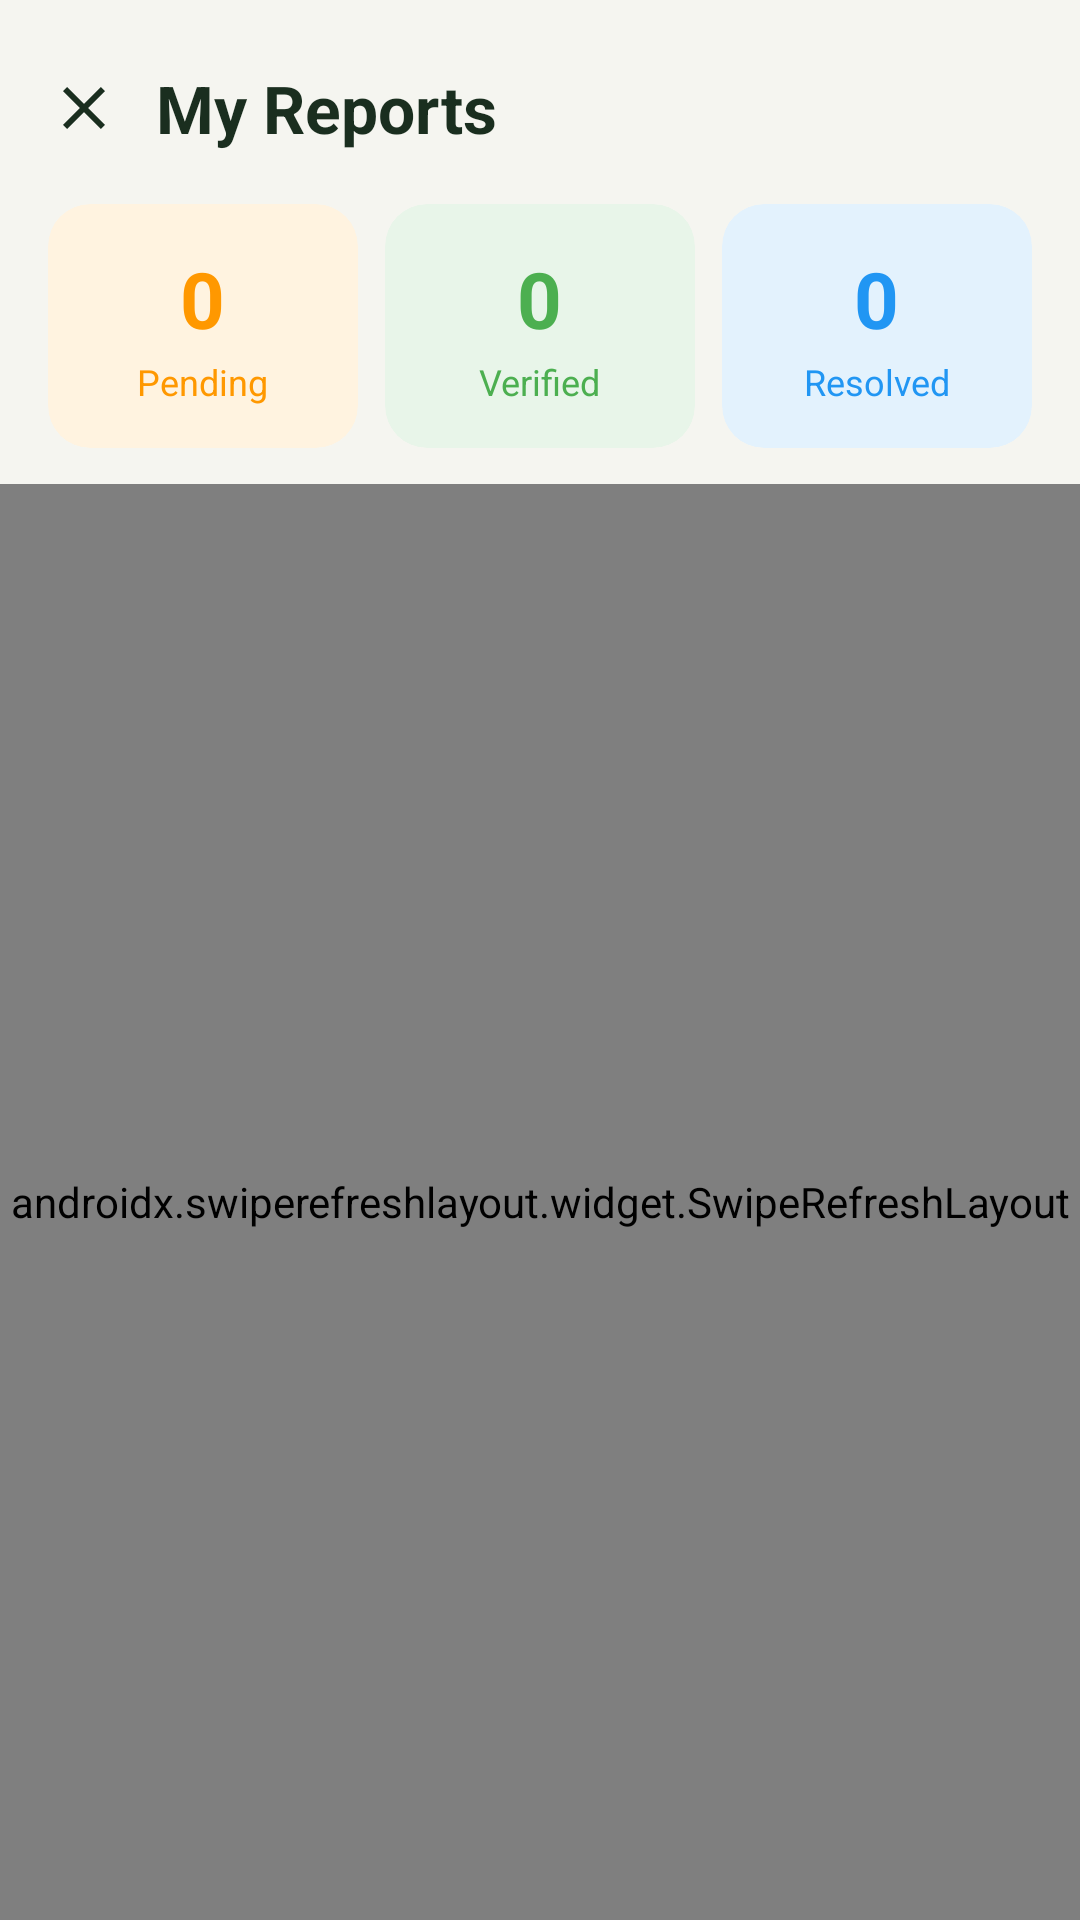

Named icons in this screenshot (1080×1920) and their bounding boxes, detection(x1, y1, x2, y2):
Back: detection(63, 87, 105, 129)
